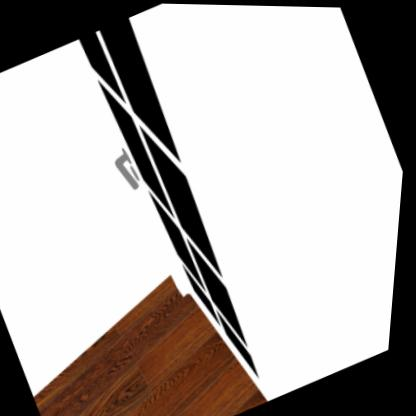Wooden floor: (41, 278, 274, 416)
